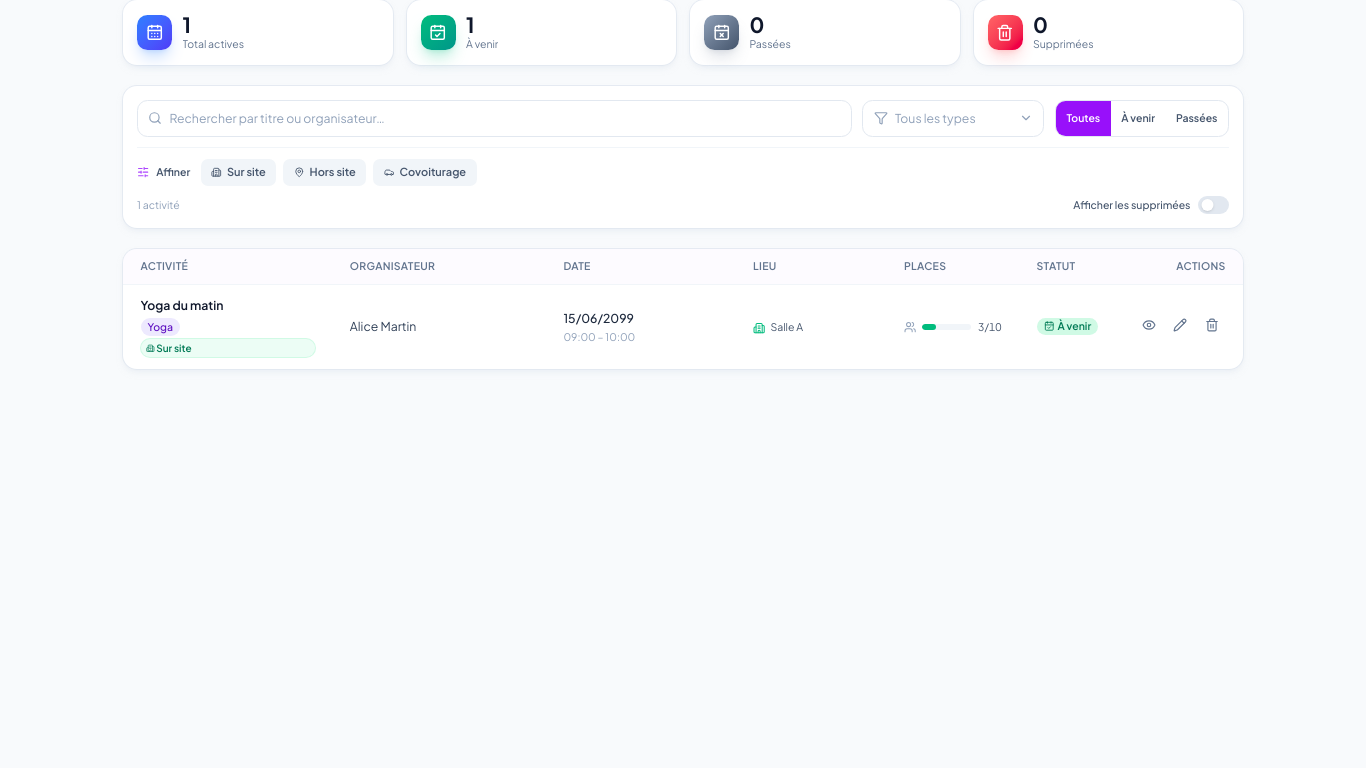
AdminActivitiesPage › confirme la suppression d'une activité
Click the button titled "Supprimer" at (1212, 325), box [1198,311,1226,339]
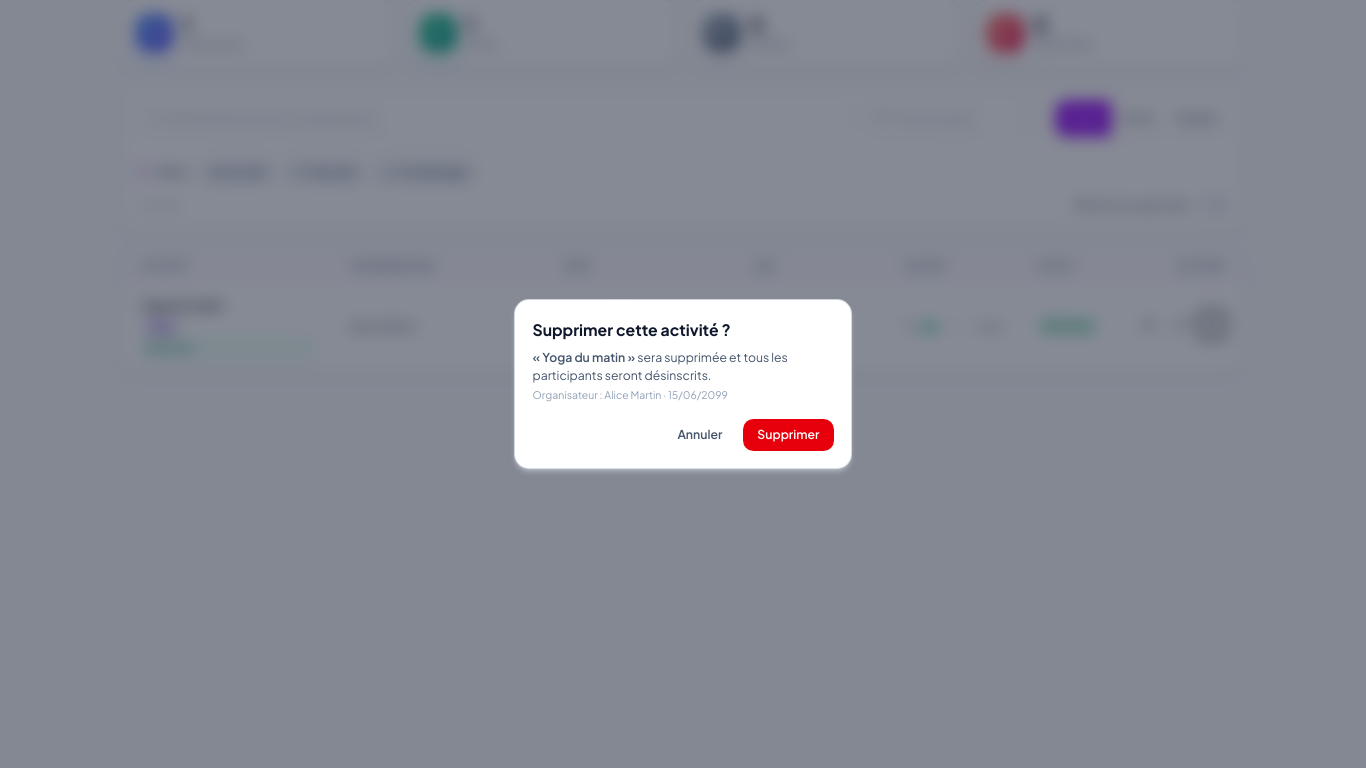
Check: the heading "Supprimer cette activité ?" is shown, box [532,320,731,338]
Click the button "Supprimer" at (788, 435), box [743,419,834,450]
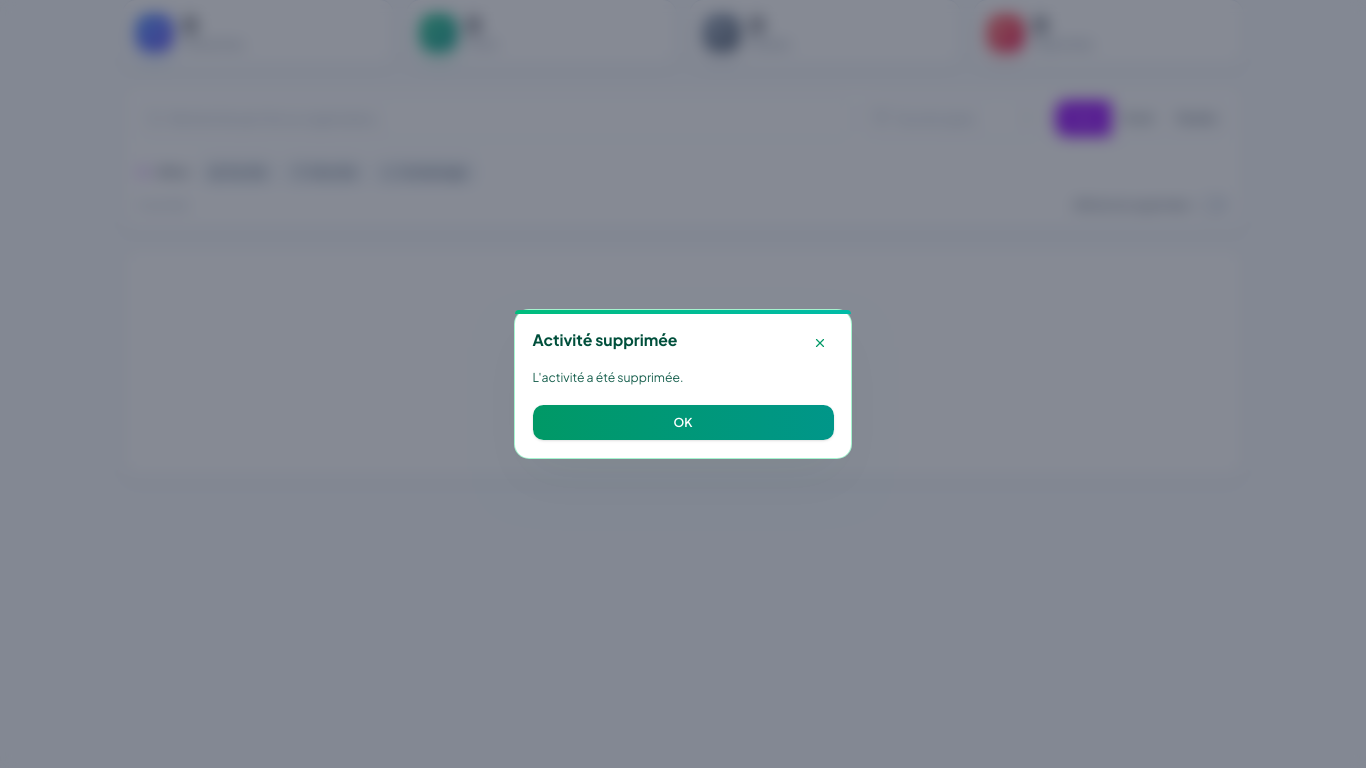
Check: the heading "Activité supprimée" is shown, box [532,329,684,351]
